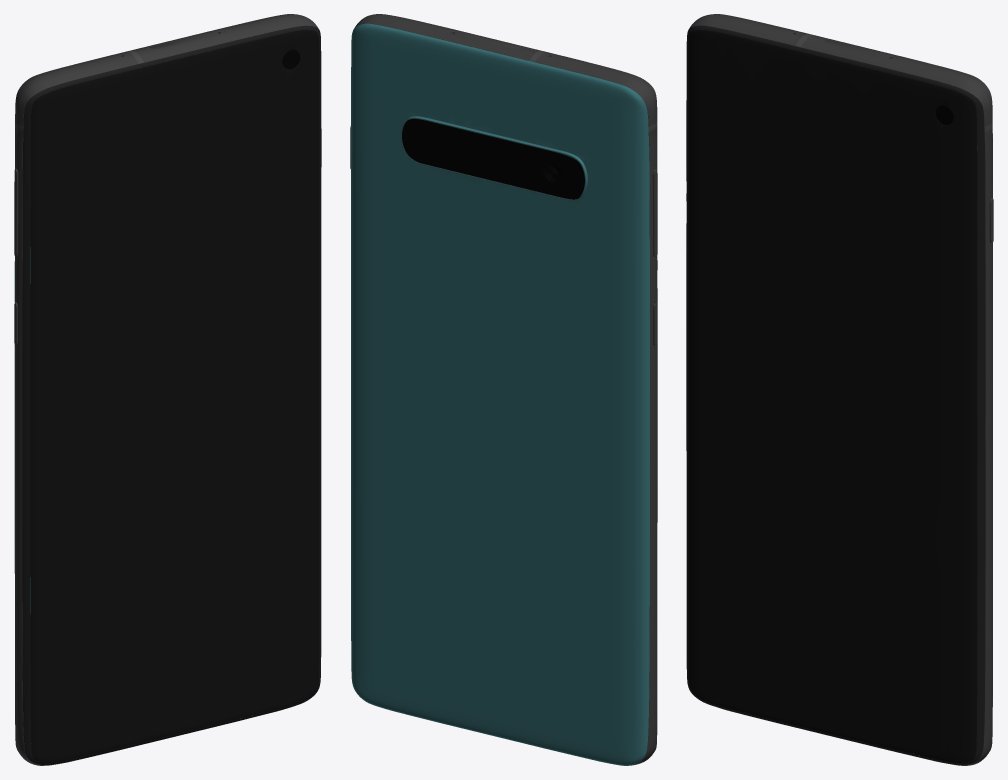
Rendered from sketchfab-galaxy-s10.glb.
3 views of the same model, side by side, from view 1: azimuth 30°, elevation 25°; view 2: azimuth 150°, elevation 25°; view 3: azimuth 330°, elevation 25° (orthographic).
Visible parts, largest first — view 1: Object_9, Object_5, Object_10; view 2: Object_7, Object_5, Object_12; view 3: Object_9, Object_5, Object_10.
Boxes of the visible parts, x1,y1,x2,y2 form: Object_9: [30, 29, 319, 762]; Object_5: [14, 14, 321, 765]; Object_10: [22, 26, 321, 764]; Object_7: [351, 23, 649, 765]; Object_5: [350, 14, 657, 765]; Object_12: [402, 119, 584, 199]; Object_9: [688, 29, 977, 762]; Object_5: [686, 14, 993, 765]; Object_10: [686, 26, 985, 764].
Bounding box in the file's own units: 69.41 × 150 × 7.95.
